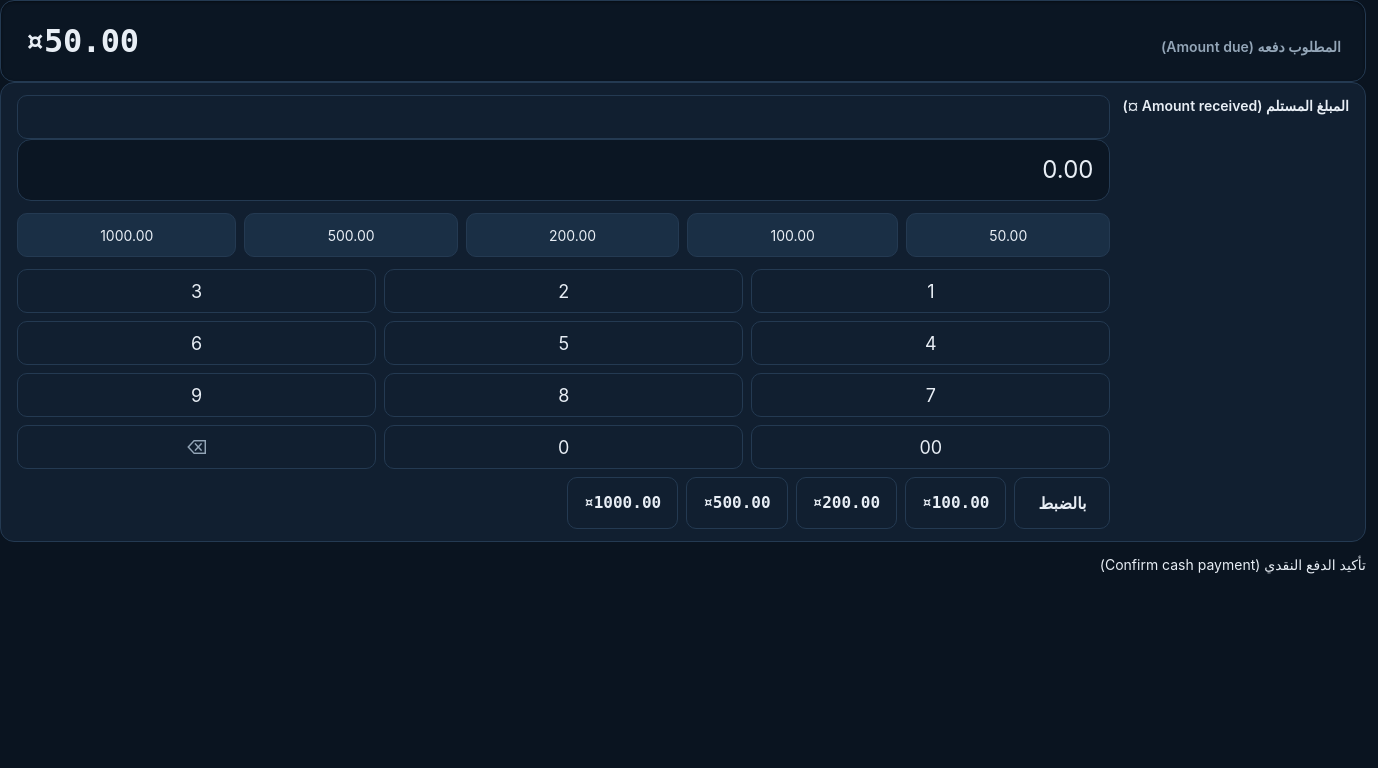
Test: CashEntry — v3.5 visual recompose (amount-due-card, tender-rows) › clicking the exact (بالضبط) chip fills the amount input with the exact balance
Click the button "بالضبط" at (1062, 503), box [1014,477,1110,529]
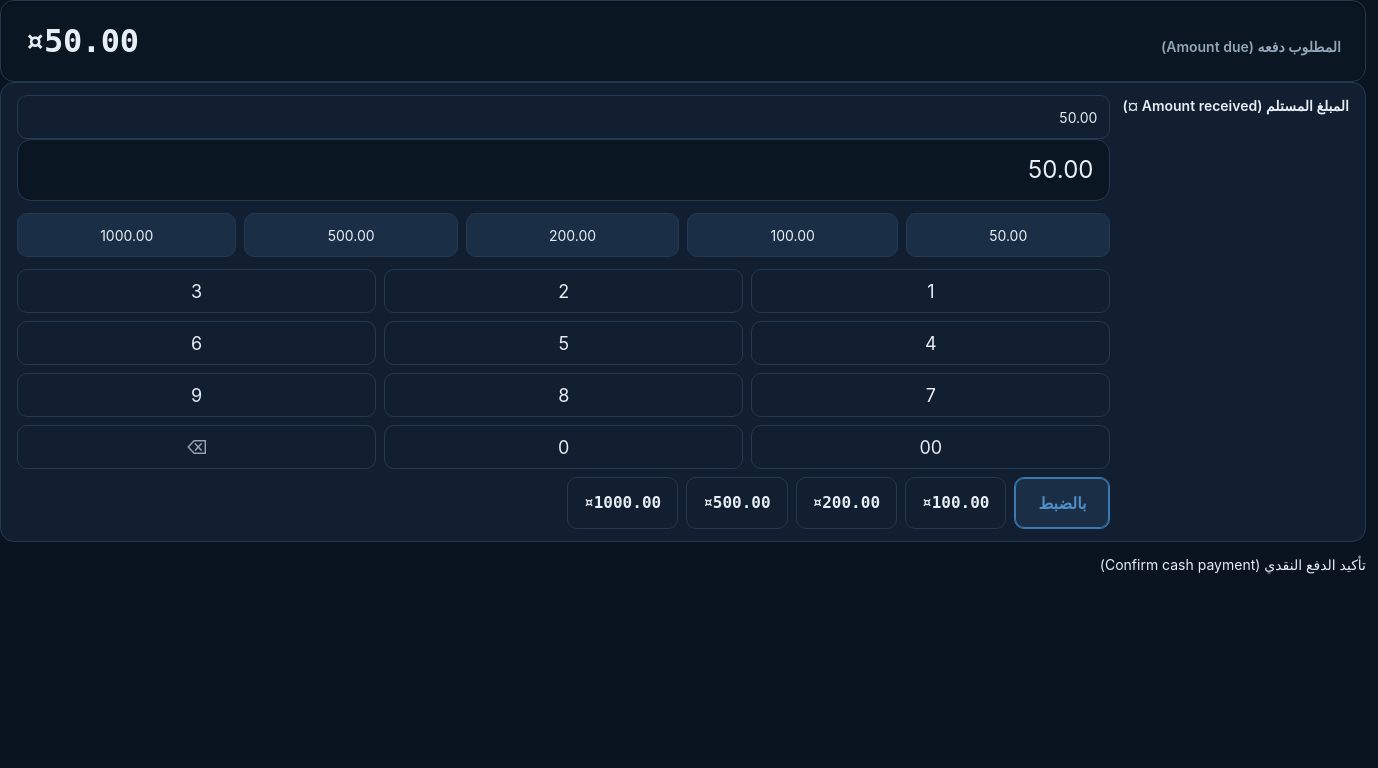
Expected: the field with test id "cash-entry-amount-input" holds "50.00", [17,95,1110,139]
